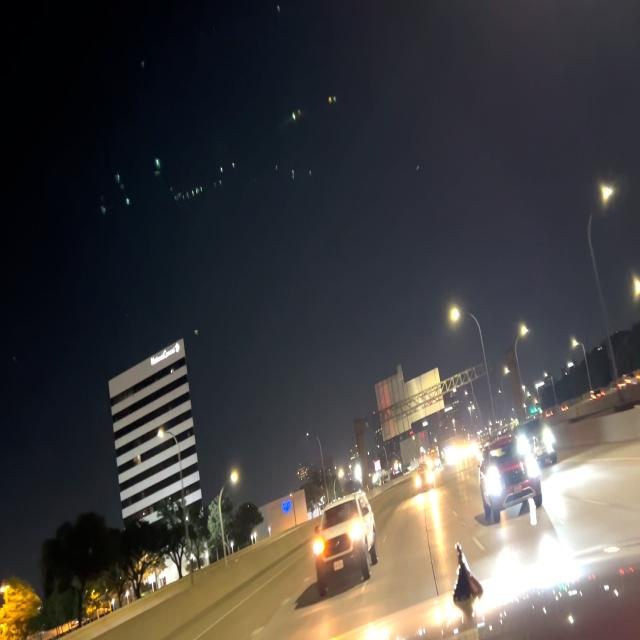back-of-sign: (374, 367, 446, 444)
